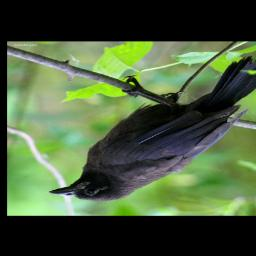Crow: (49, 54, 256, 202)
